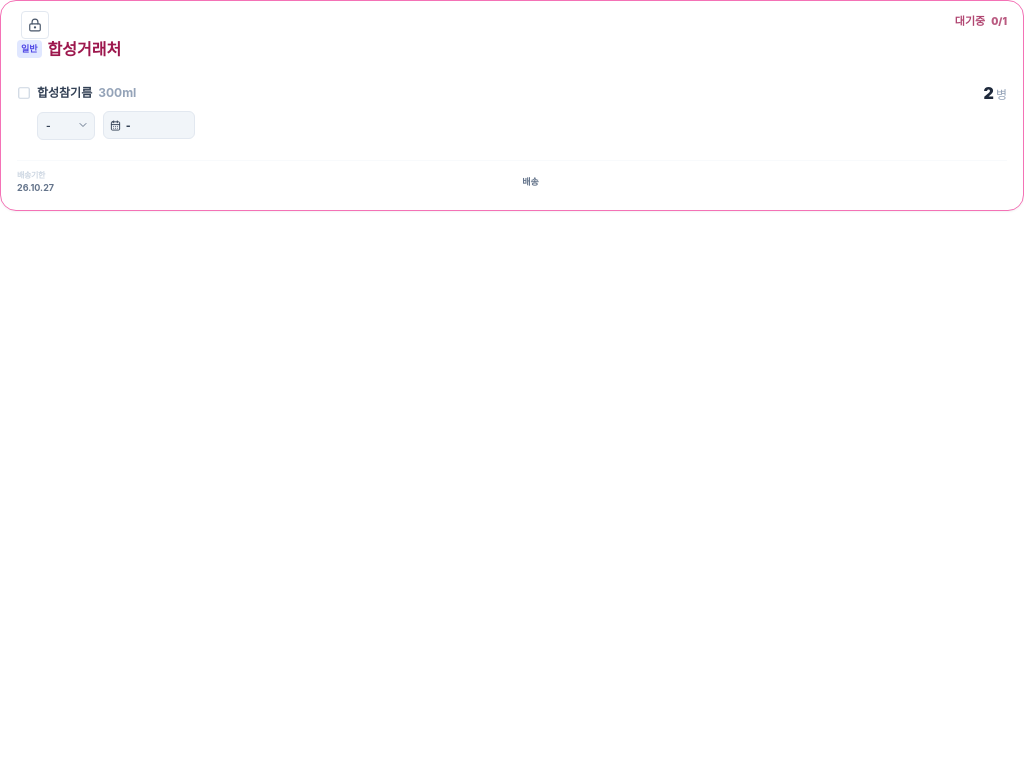
Test: failed 카드header에는 긴경고 없이 단일자물쇠→이유모달을 표시한다
The width and height of the screenshot is (1024, 768).
Check: the text "권한 확인에서" is not shown
Step 1. Click the button named "잠금 이유 및 복구" → (35, 25), box [21,11,49,39]
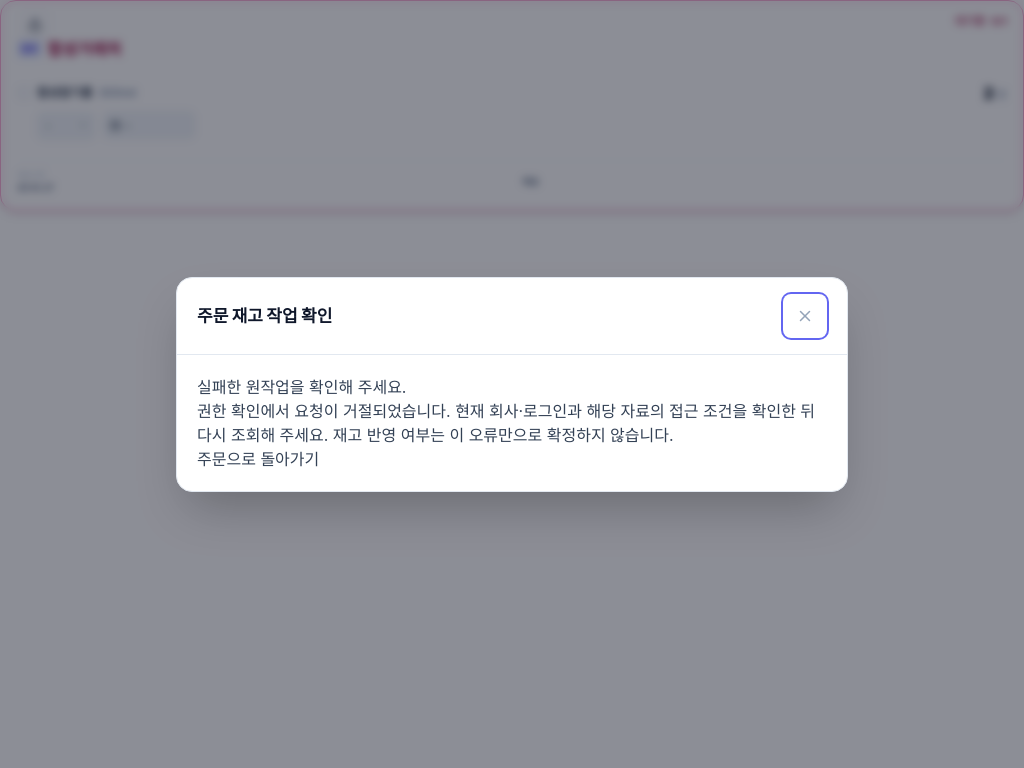
Check: the dialog "주문 재고 작업 확인" shows "권한 확인에서 요청이 거절", box [197,400,815,444]
